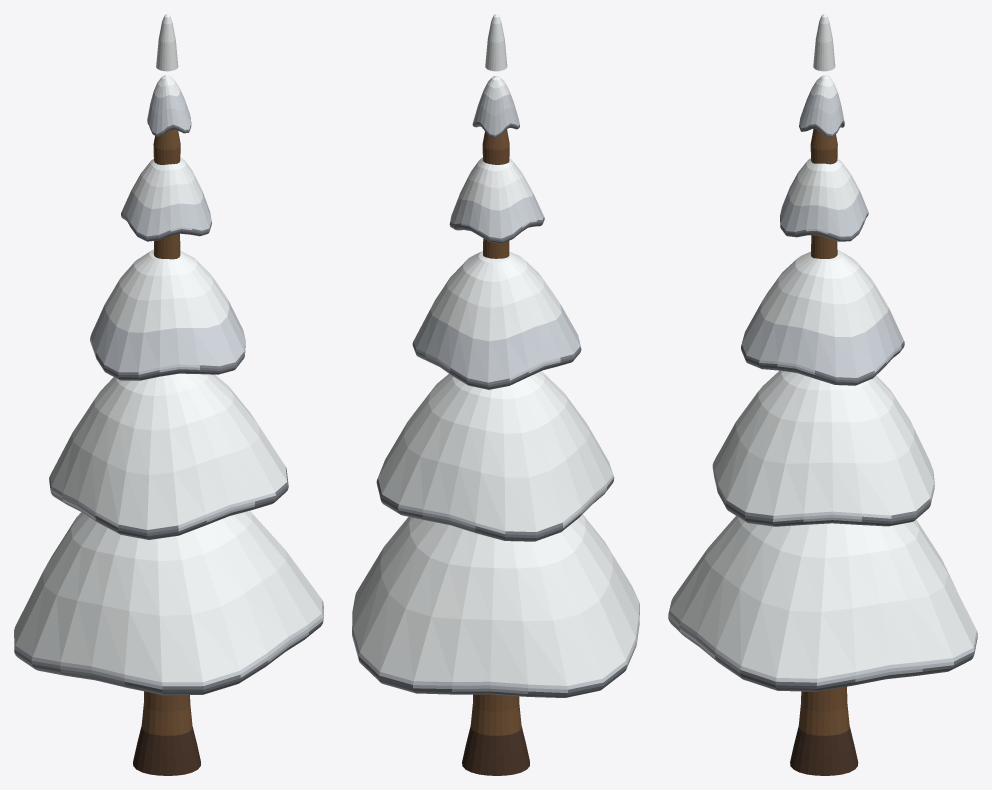
The model's file is SnowPineFar.obj.
The picture shows the model from 3 angles, left to right: view 1: azimuth 30°, elevation 25°; view 2: azimuth 150°, elevation 25°; view 3: azimuth 270°, elevation 25°; orthographic projection.
Size of the model in its own units: 6.14 by 16.35 by 6.13.
